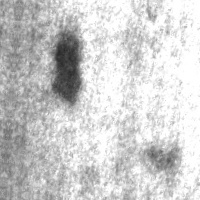patches: (49, 29, 87, 108)
